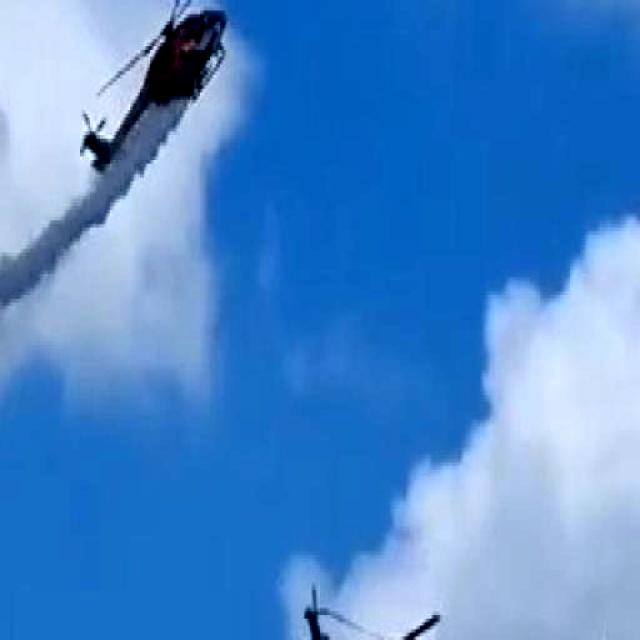drone: (78, 0, 229, 182), (298, 588, 459, 640)
